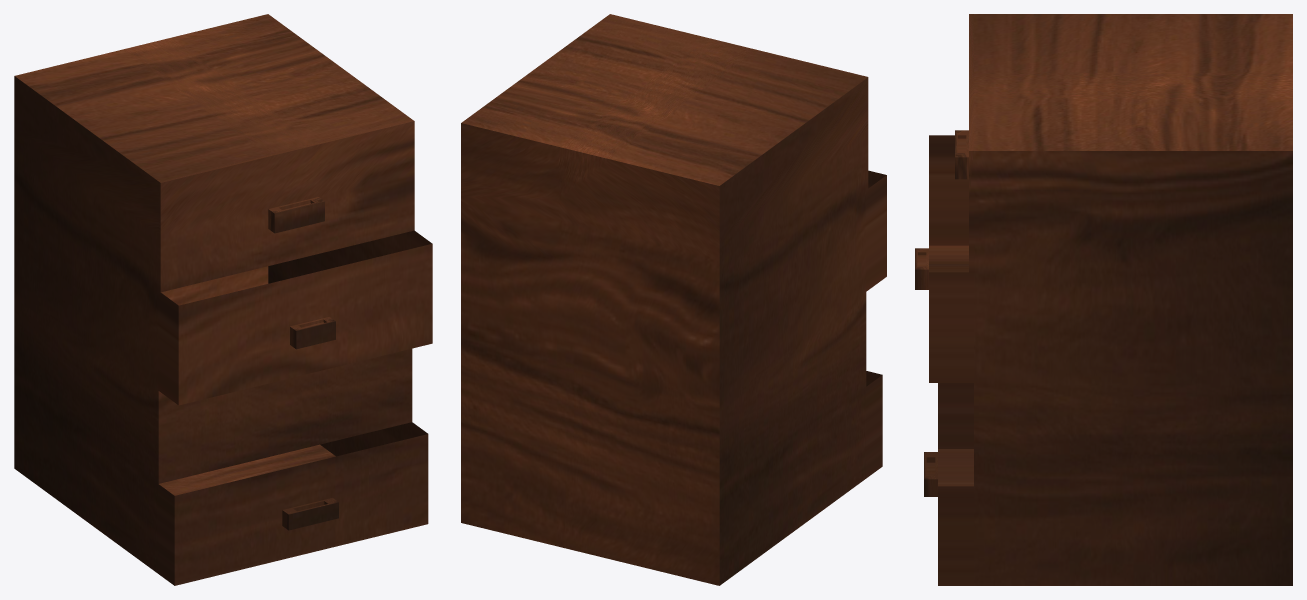
File: NightStand_Textured.fbx
3 views of the same model, side by side, from view 1: azimuth 30°, elevation 25°; view 2: azimuth 150°, elevation 25°; view 3: azimuth 270°, elevation 25° (orthographic). The views are drawn at different scales.
Parts seen in each view (by area): view 1: pCube1; view 2: pCube1; view 3: pCube1.
Part boxes in pixels (x1,y1,x2,y2): pCube1: (14, 14, 432, 585); pCube1: (461, 14, 886, 585); pCube1: (915, 14, 1292, 585).
Size of the model in its own units: 1 by 1.48 by 1.17.
1 material, 1 textured.
